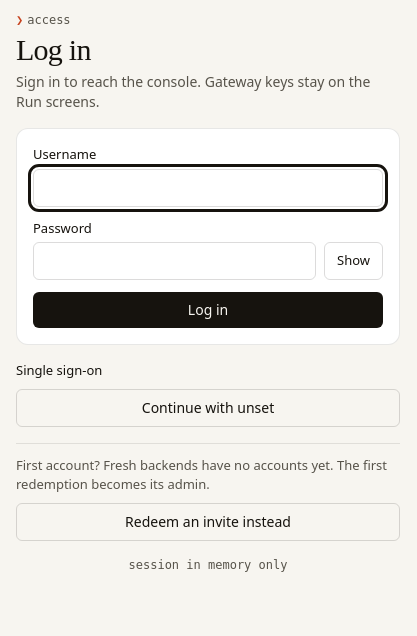
Test: LoginPage › validates empty fields before submitting
This screenshot has width=417, height=636.
Click the button "Log in" at (208, 310), box [33,292,383,328]
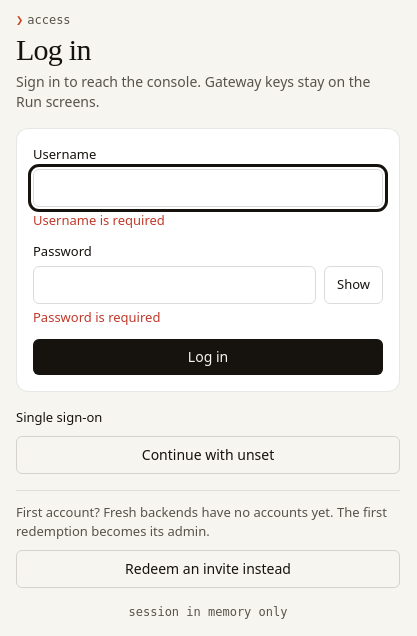
Check: the text "Username is required" is shown, box [33,210,165,228]
